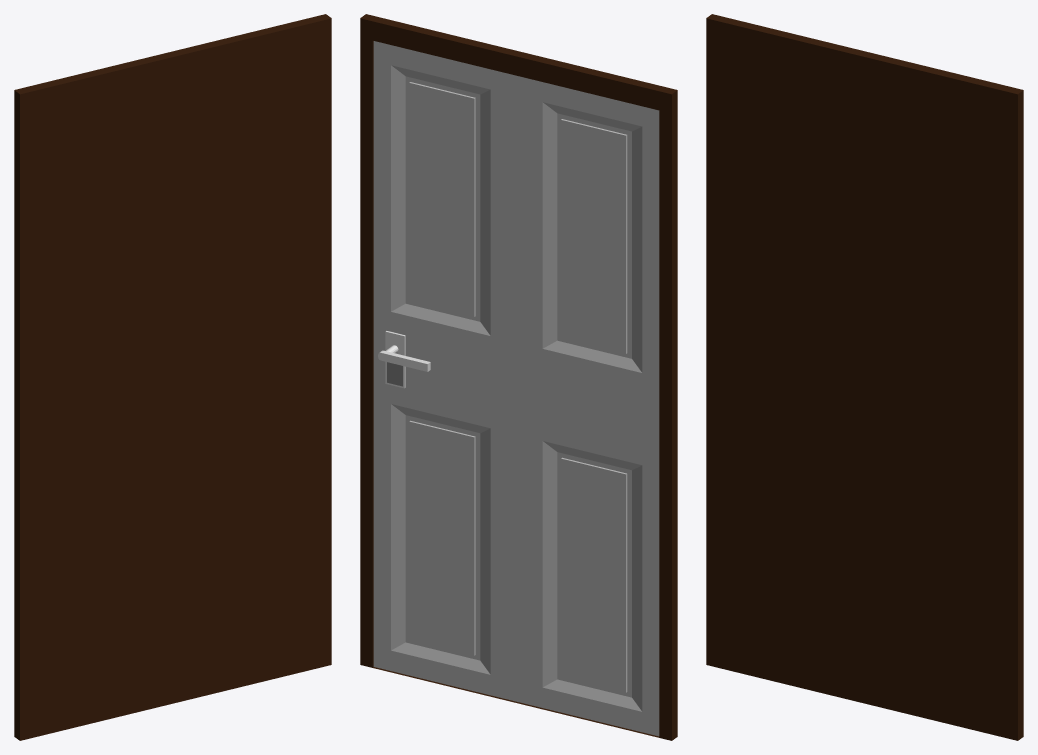
Rendered from Door.fbx.
The picture shows the model from 3 angles, left to right: view 1: azimuth 30°, elevation 25°; view 2: azimuth 150°, elevation 25°; view 3: azimuth 330°, elevation 25°; orthographic projection.
Visible parts, largest first — view 1: Door_Frame; view 2: Door_WellDoor, Door_Frame, Door_HandleBase, Door_Handle; view 3: Door_Frame.
Part boxes in pixels (left/top/right/bottom): Door_Frame: left=14, top=14, right=331, bottom=740; Door_WellDoor: left=373, top=41, right=659, bottom=736; Door_Frame: left=360, top=14, right=677, bottom=740; Door_HandleBase: left=385, top=331, right=405, bottom=388; Door_Handle: left=378, top=345, right=430, bottom=371; Door_Frame: left=706, top=14, right=1023, bottom=740.
Bounding box in the file's own units: 79.94 × 158 × 7.93.
